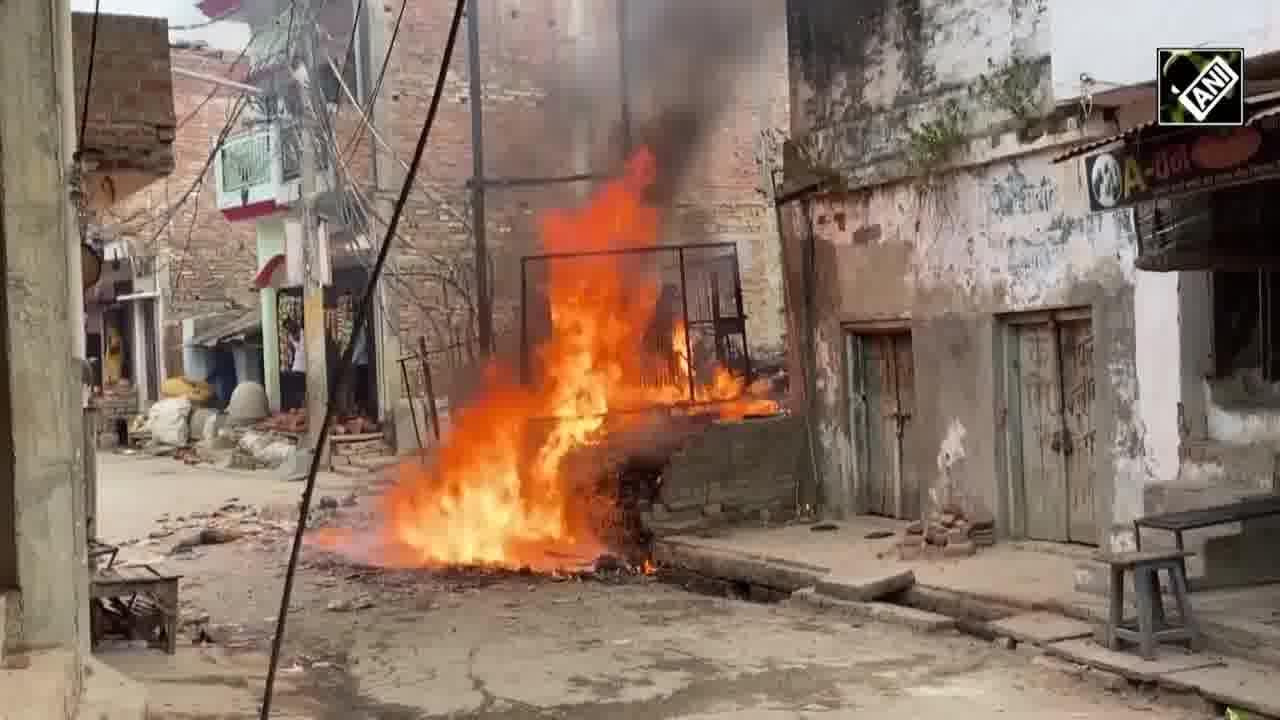fire: (390, 410, 593, 564), (539, 211, 671, 408), (678, 373, 768, 416)
smoke: (587, 7, 750, 141)
